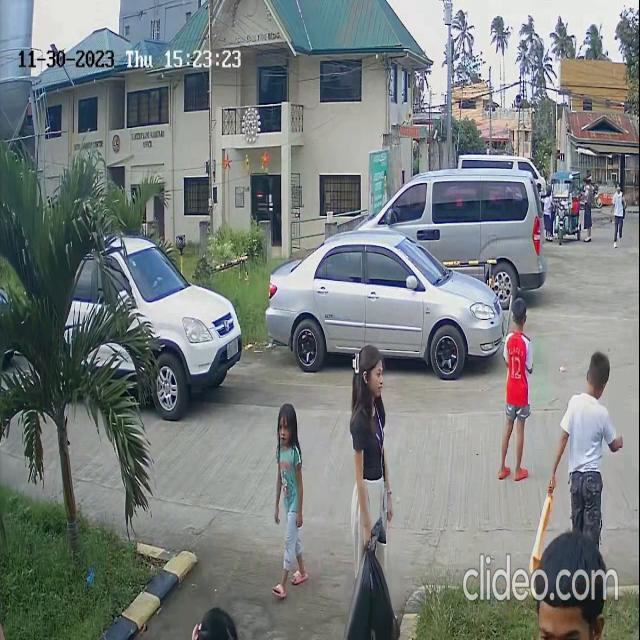garbage: (339, 523, 412, 640)
person: (272, 402, 308, 561), (503, 297, 531, 398), (350, 342, 388, 399)
